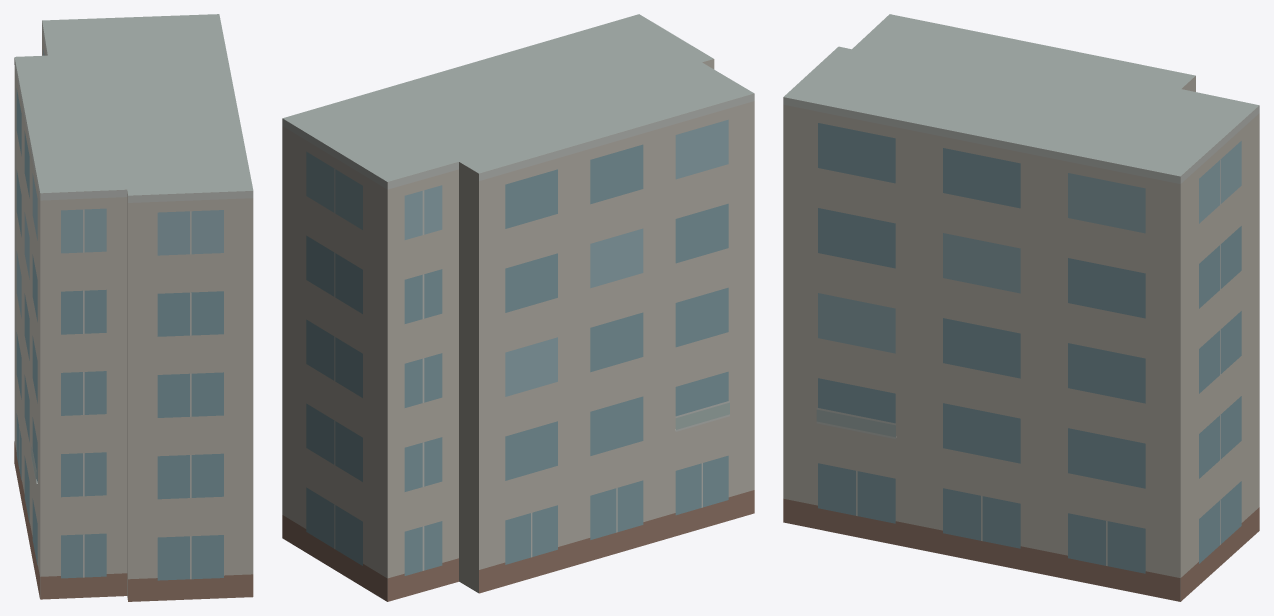
File: survey-upis-32978203.glb
3 views of the same model, side by side, from view 1: azimuth 30°, elevation 25°; view 2: azimuth 150°, elevation 25°; view 3: azimuth 270°, elevation 25° (orthographic). The views are drawn at different scales.
Visible parts, largest first — view 1: survey-upis-32978203.tmp; view 2: survey-upis-32978203.tmp; view 3: survey-upis-32978203.tmp.
Boxes of the visible parts, x1,y1,x2,y2 form: survey-upis-32978203.tmp: [14, 14, 253, 601]; survey-upis-32978203.tmp: [282, 14, 754, 601]; survey-upis-32978203.tmp: [783, 14, 1259, 601].
Bounding box in the file's own units: 11.07 × 13.5 × 13.71.
